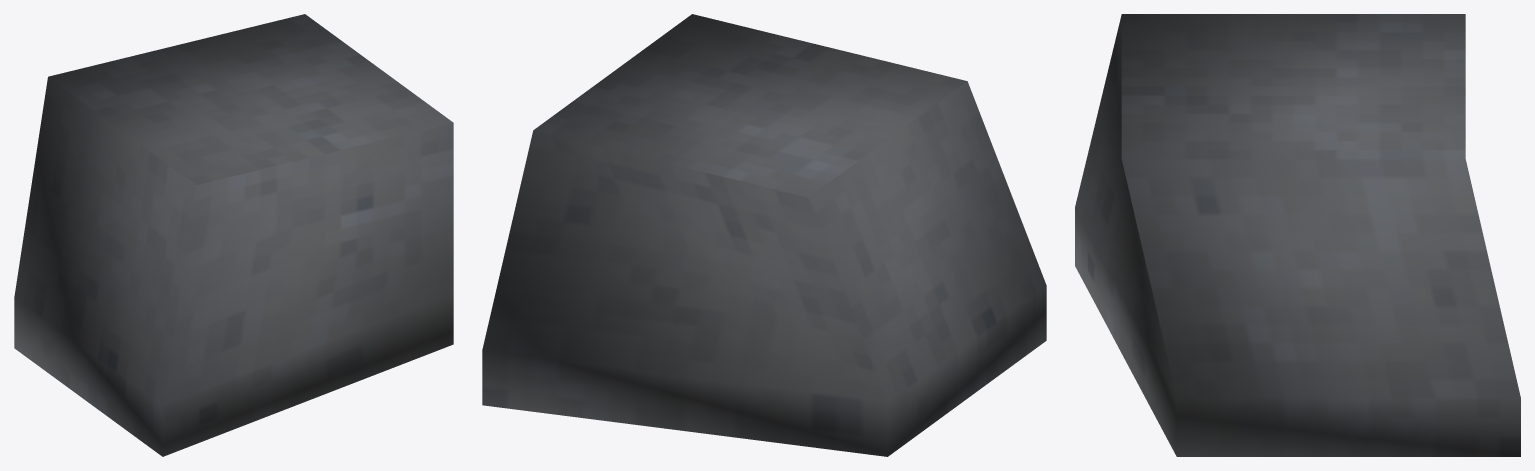
The model's file is pierre2.glb.
The picture shows the model from 3 angles, left to right: view 1: azimuth 30°, elevation 25°; view 2: azimuth 150°, elevation 25°; view 3: azimuth 270°, elevation 25°; orthographic projection. The views are drawn at different scales.
Visible parts, largest first — view 1: Cube.006; view 2: Cube.006; view 3: Cube.006.
Boxes of the visible parts, left/top/right/bottom form: Cube.006: left=14, top=14, right=453, bottom=456; Cube.006: left=482, top=14, right=1046, bottom=456; Cube.006: left=1075, top=14, right=1520, bottom=456.
Size of the model in its own units: 2.6 by 1.82 by 2.59.
Materials: 1 (1 with a texture image).
